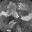people: (7, 2, 17, 12), (21, 13, 32, 22), (8, 20, 17, 29), (10, 10, 19, 18), (0, 10, 9, 17)
